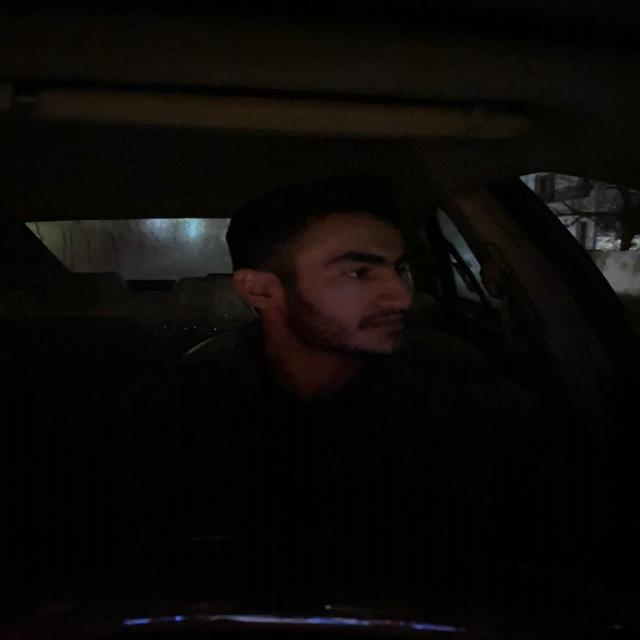person: (211, 188, 435, 370)
